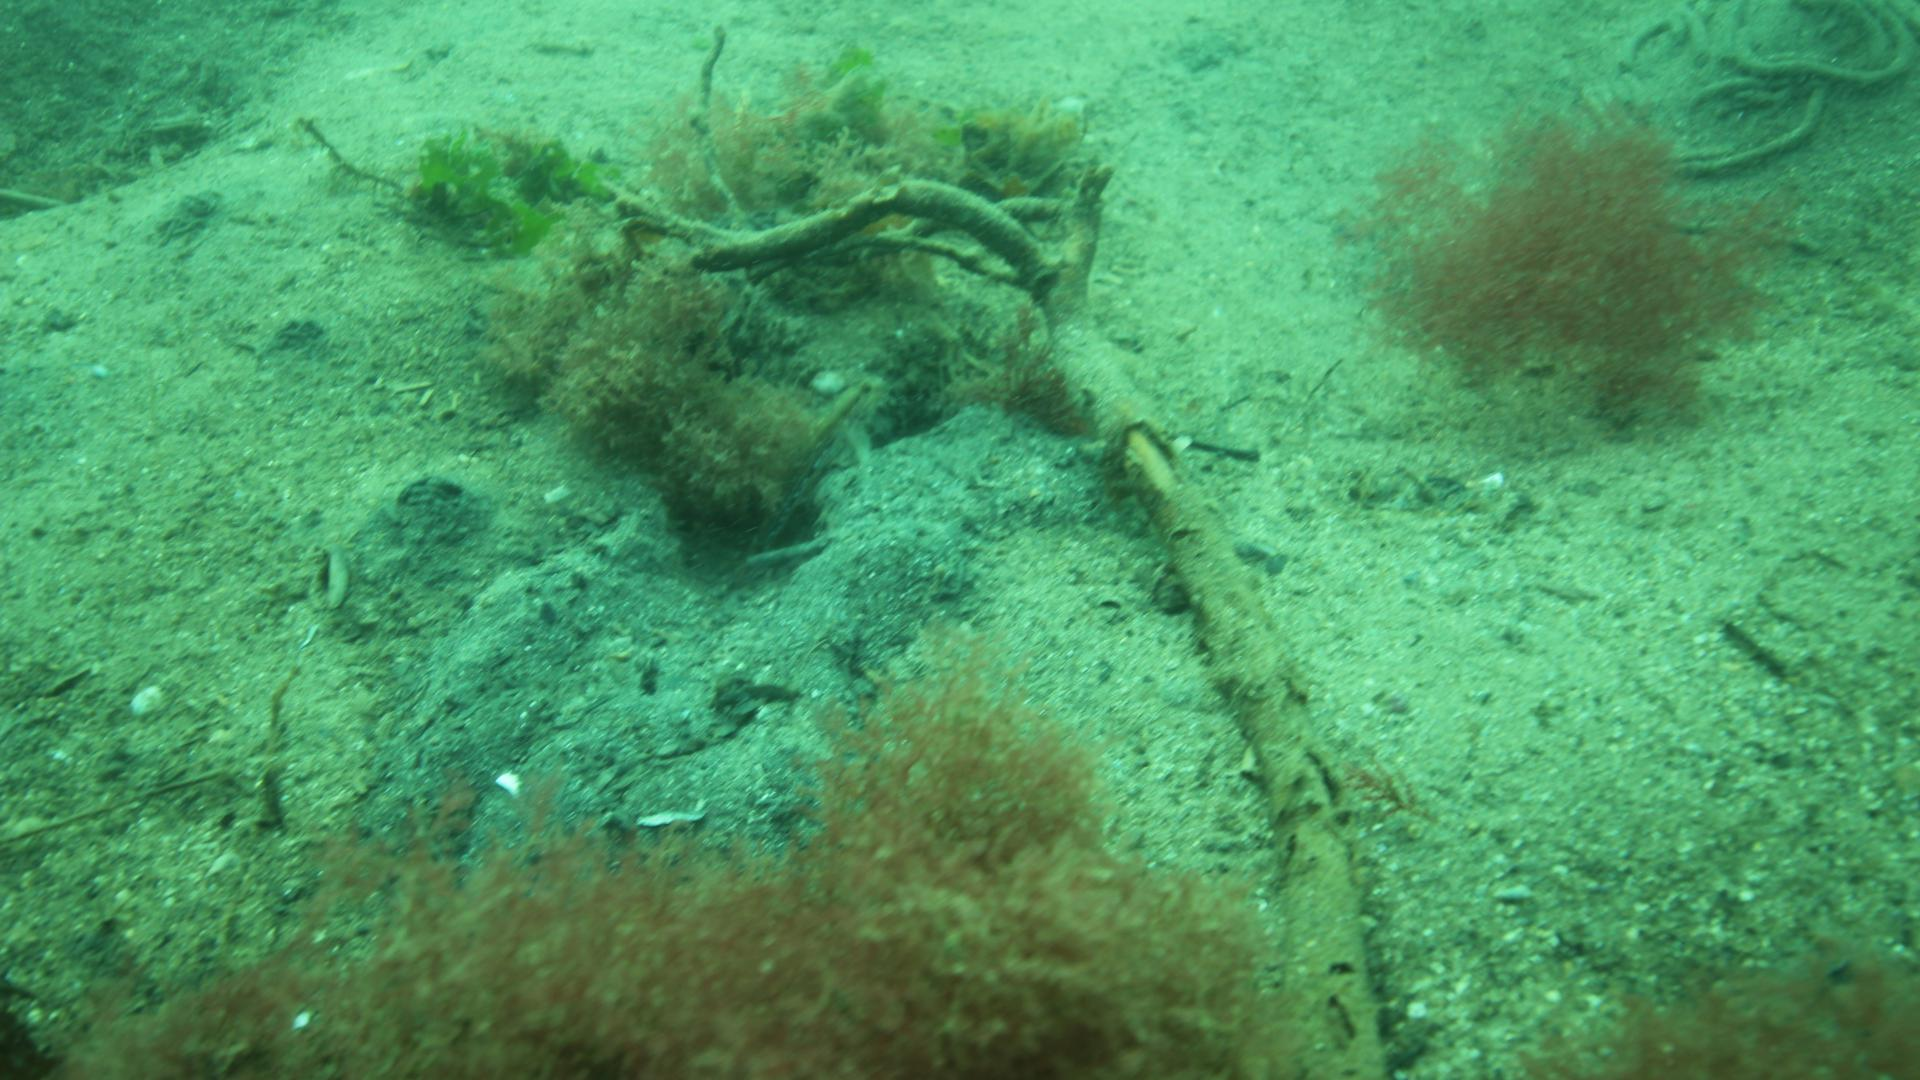wood: (599, 154, 1385, 1080)
